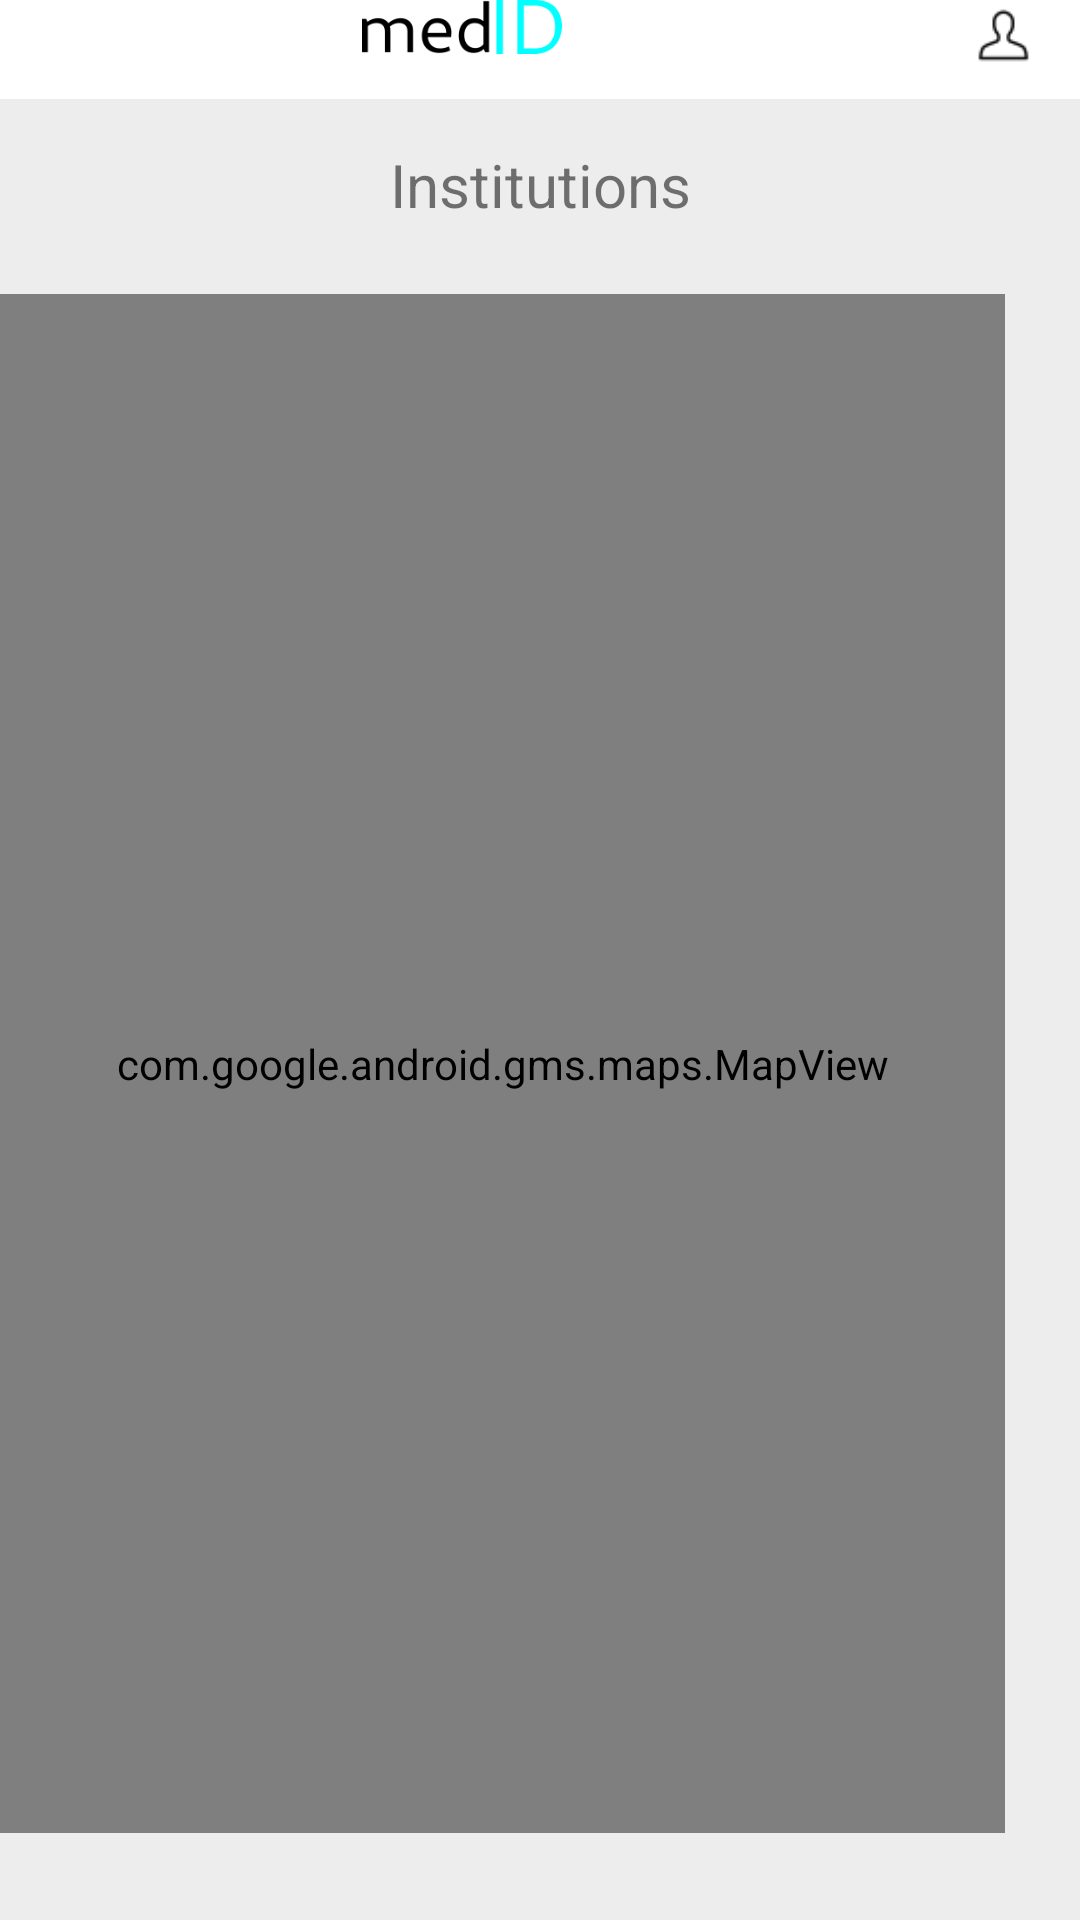

Screen size 1080x1920. Icon name, then its center in pixels as (x,y):
usr: (1003,35)
